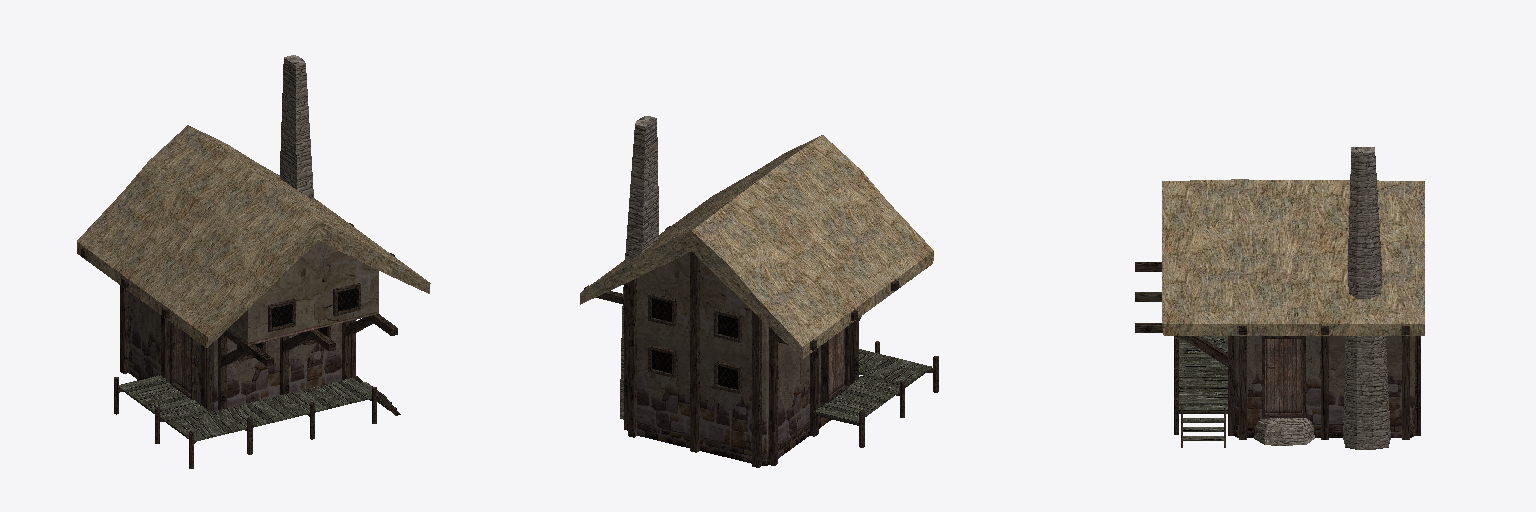
3 views of the same model, side by side, from view 1: azimuth 30°, elevation 25°; view 2: azimuth 150°, elevation 25°; view 3: azimuth 270°, elevation 25° (orthographic).
Visible parts, largest first — view 1: skin; view 2: skin; view 3: skin.
Boxes of the visible parts, x1=… form: skin: x1=77, y1=55, x2=430, y2=468; skin: x1=580, y1=116, x2=938, y2=467; skin: x1=1135, y1=147, x2=1424, y2=449.
Size of the model in its own units: 14.51 by 17 by 15.3.
Materials: 1 (1 with a texture image).